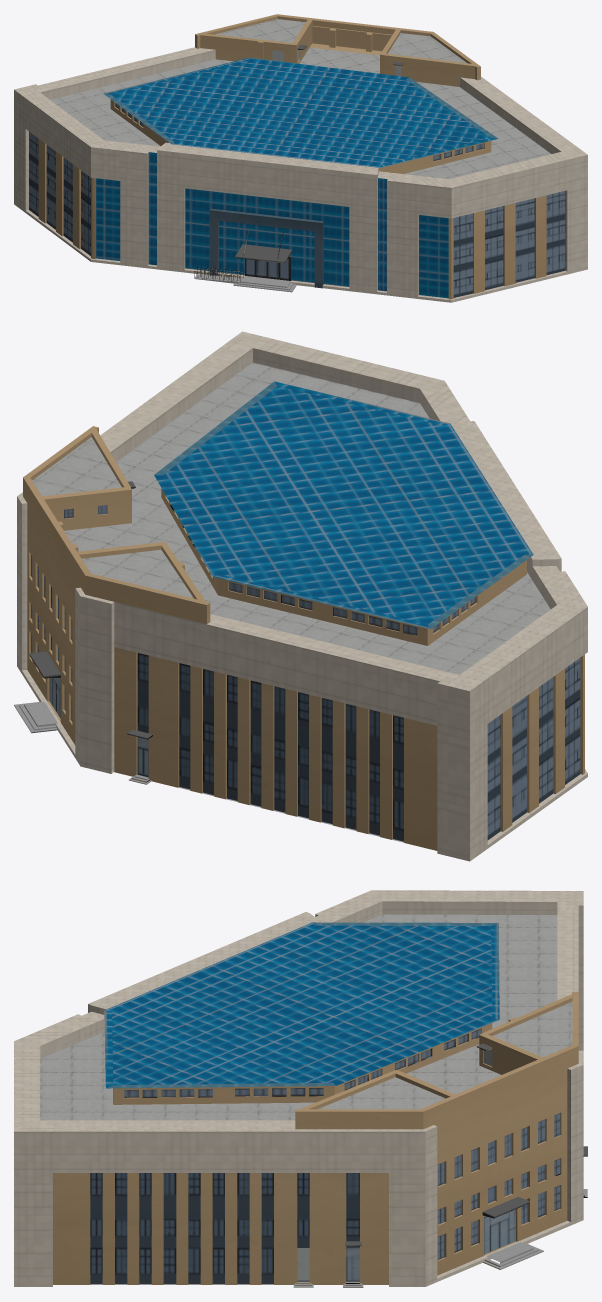
Rendered from test基础.glb.
3 renders of one model, top to bottom at view 1: azimuth 30°, elevation 25°; view 2: azimuth 150°, elevation 25°; view 3: azimuth 270°, elevation 25°, orthographic. The views are drawn at different scales.
Parts seen in each view (by area): view 1: MERGE_双门; view 2: MERGE_双门; view 3: MERGE_双门.
Boxes of the visible parts, x1,y1,x2,y2 form: MERGE_双门: (14,14,587,302); MERGE_双门: (14,331,587,861); MERGE_双门: (14,890,587,1287).
Size of the model in its own units: 67.71 by 22.59 by 67.82.
1 material, 1 textured.
